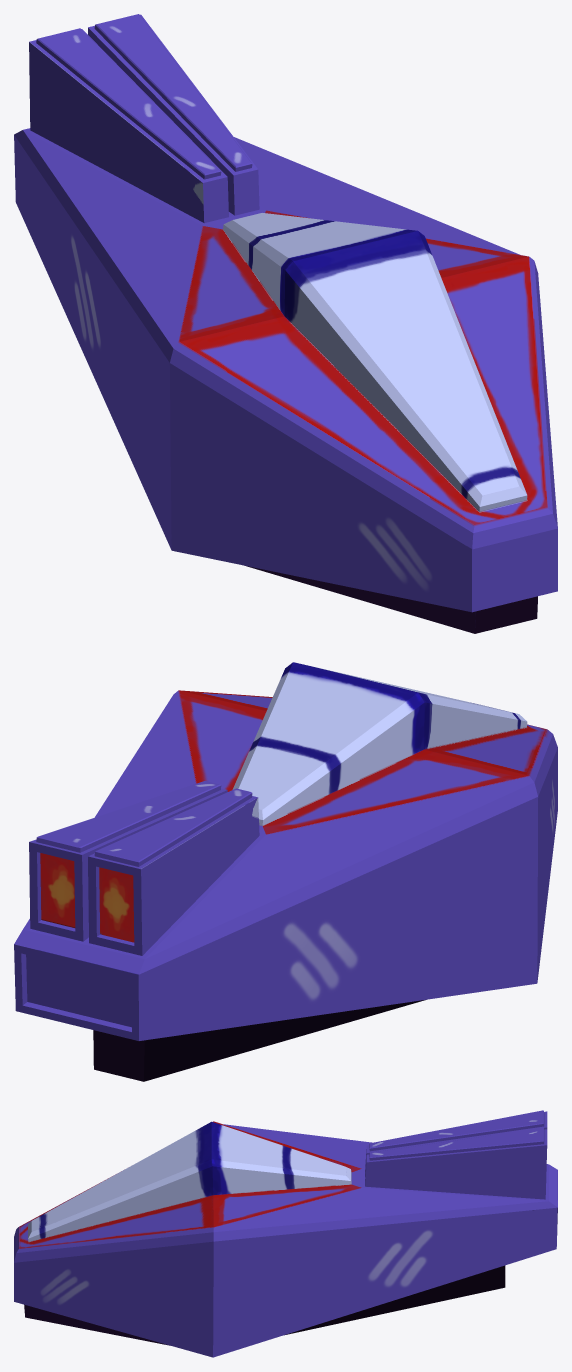
The model's file is zipper_v1.glb.
3 views of the same model, one above another, from view 1: azimuth 30°, elevation 25°; view 2: azimuth 150°, elevation 25°; view 3: azimuth 270°, elevation 25° (orthographic). The views are drawn at different scales.
Parts seen in each view (by area): view 1: Body; view 2: Body; view 3: Body.
Boxes of the visible parts, x1=… form: Body: x1=14, y1=14, x2=557, y2=633; Body: x1=14, y1=662, x2=557, y2=1081; Body: x1=14, y1=1110, x2=557, y2=1357.
Bounding box in the file's own units: 6.06 × 5.09 × 12.5.
1 material, 1 textured.
